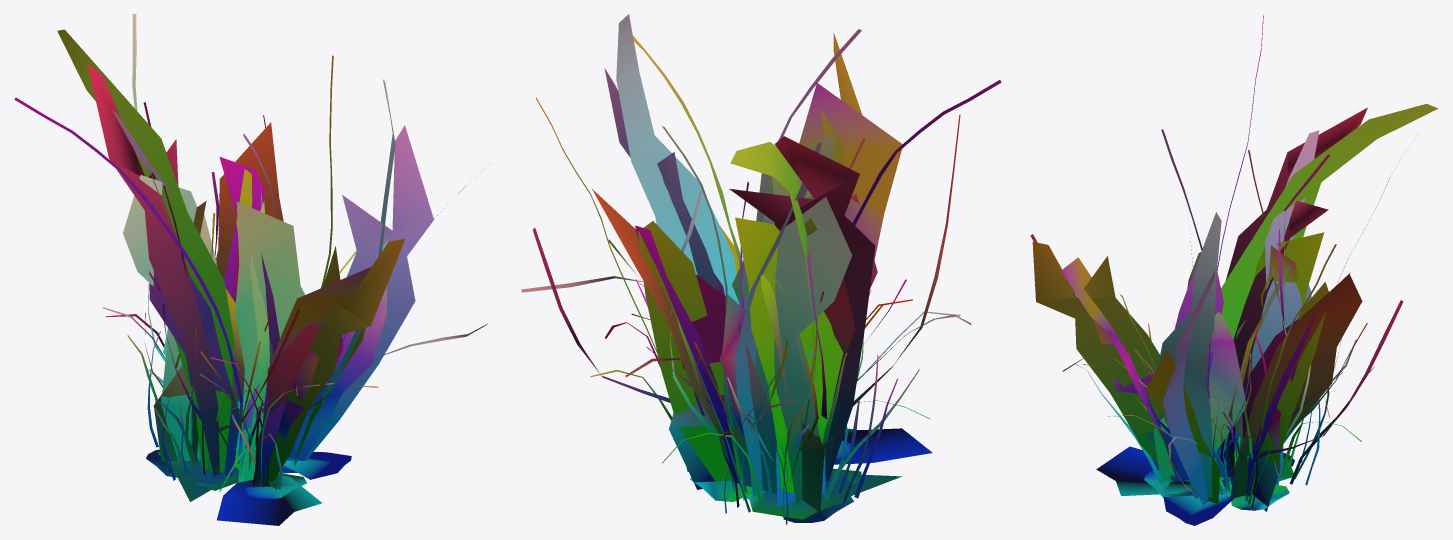
Rendered from uddmcgbia_VarF_LOD0.fbx.
3 views of the same model, side by side, from view 1: azimuth 30°, elevation 25°; view 2: azimuth 150°, elevation 25°; view 3: azimuth 270°, elevation 25° (orthographic). The views are drawn at different scales.
Parts seen in each view (by area): view 1: _84fe_VarF_LOD0; view 2: _84fe_VarF_LOD0; view 3: _84fe_VarF_LOD0.
Part boxes in pixels (x1,y1,x2,y2): _84fe_VarF_LOD0: [14, 14, 490, 525]; _84fe_VarF_LOD0: [521, 14, 1001, 524]; _84fe_VarF_LOD0: [1030, 15, 1438, 525].
Size of the model in its own units: 47.36 by 42.11 by 40.79.
